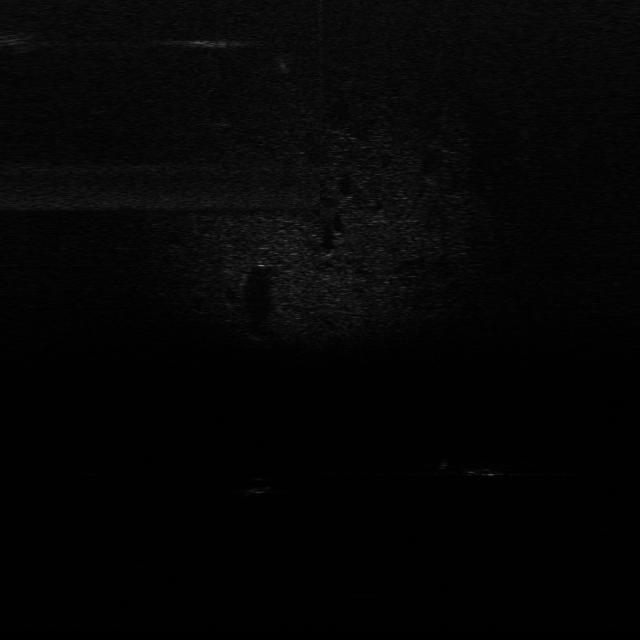ball: (243, 474, 272, 498)
human body: (436, 456, 528, 480)
